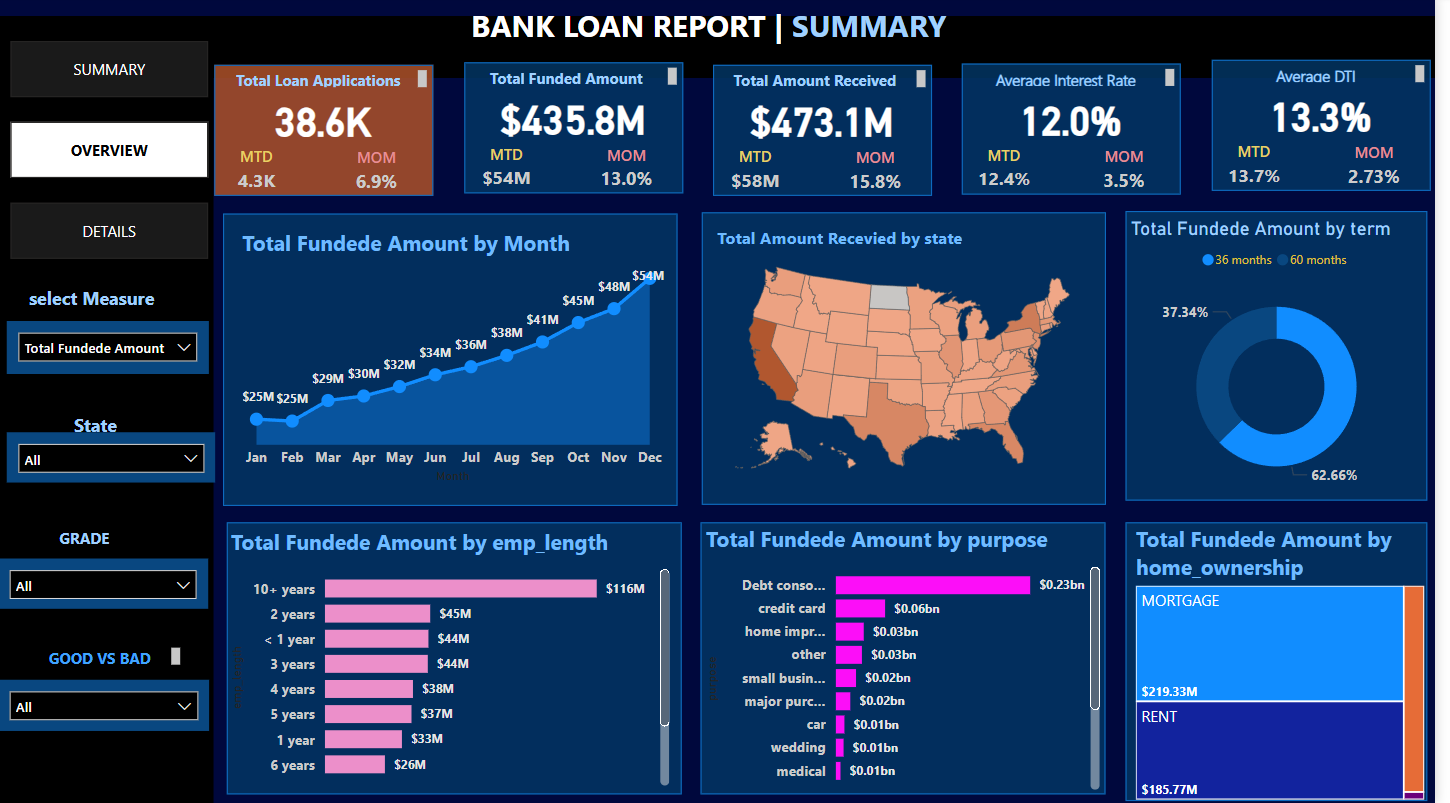

What the dashboard file says about the page in this screenshot:
{"tool":"powerbi","page":{"name":" SUMMARY","canvas":[1280,720],"ordinal":0},"visuals":[{"type":"shape","box":[0,0,1280,55],"z":0},{"type":"shape","box":[1081,56.7,195.4,117],"z":0,"group":"g5"},{"type":"shape","box":[414.9,59.1,195.4,117],"z":0,"group":"g2"},{"type":"shape","box":[858.8,59.6,195.4,117],"z":0,"group":"g4"},{"type":"shape","box":[636.7,60.9,195.4,117],"z":0,"group":"g3"},{"type":"shape","box":[193,61.5,195.4,117],"z":0,"group":"g1"},{"type":"shape","box":[0,55.5,192,665],"z":1000},{"type":"textbox","box":[416.2,3.6,448.8,48.3],"z":2000},{"type":"group","id":"g1","title":"Group 1","box":[191.8,61.5,196.6,119.4],"z":3000},{"type":"group","id":"g2","title":"Group 1","box":[413.7,59.1,196.6,119.4],"z":4000},{"type":"card","fields":{"Values":["bank_loan_data.AVG_DTI"]},"box":[1081,79.6,193.8,50.7],"z":4000,"group":"g5"},{"type":"card","fields":{"Values":["bank_loan_data.Total Fundede Amount"]},"box":[414.9,82,193.8,50.7],"z":4000,"group":"g2"},{"type":"card","fields":{"Values":["bank_loan_data.Avg Interest Rate"]},"box":[858.8,82.5,193.8,50.7],"z":4000,"group":"g4"},{"type":"card","fields":{"Values":["bank_loan_data.Total Amount Recevied"]},"box":[636.7,83.8,193.8,50.7],"z":4000,"group":"g3"},{"type":"card","fields":{"Values":["bank_loan_data.Total Loan Applications"]},"box":[193,84.4,193.8,50.7],"z":4000,"group":"g1"},{"type":"textbox","box":[1079.8,56.7,195.4,25.3],"z":5000,"group":"g5"},{"type":"textbox","box":[413.7,59.1,195.4,25.3],"z":5000,"group":"g2"},{"type":"textbox","box":[857.6,59.6,195.4,25.3],"z":5000,"group":"g4"},{"type":"textbox","box":[635.5,60.9,195.4,25.3],"z":5000,"group":"g3"},{"type":"textbox","box":[191.8,61.5,195.4,25.3],"z":5000,"group":"g1"},{"type":"shape","box":[200.3,194.2,526,260.6],"z":5000},{"type":"card","title":"MTD","fields":{"Values":["bank_loan_data.MTD AVG_DTI"]},"box":[1081.1,129.6,75,43.3],"z":6000,"group":"g5"},{"type":"card","title":"MTD","fields":{"Values":["bank_loan_data.MTD Funded Amount"]},"box":[415,132,75,43.3],"z":6000,"group":"g2"},{"type":"card","title":"MTD","fields":{"Values":["bank_loan_data.MTD AVG_IN_rate"]},"box":[858.9,132.5,75,43.3],"z":6000,"group":"g4"},{"type":"card","title":"MTD","fields":{"Values":["bank_loan_data.MTD Total Amount Received"]},"box":[636.8,133.8,75,43.3],"z":6000,"group":"g3"},{"type":"card","title":"MTD","fields":{"Values":["bank_loan_data.MTD Loan Applications"]},"box":[193.1,134.4,75,43.3],"z":6000,"group":"g1"},{"type":"card","fields":{"Values":["bank_loan_data.Good Loan %"]},"box":[252.1,309.6,135.6,51.1],"z":6000},{"type":"card","title":"MOM","fields":{"Values":["bank_loan_data.MOM AVG_DTI"]},"box":[1177.8,129.7,95.3,47.1],"z":7000,"group":"g5"},{"type":"card","title":"MOM","fields":{"Values":["bank_loan_data.MOM Funded Amount"]},"box":[511.7,132.1,95.3,47.1],"z":7000,"group":"g2"},{"type":"card","title":"MOM","fields":{"Values":["bank_loan_data.MOM AVG_INTEREST_RATE"]},"box":[955.6,132.6,95.3,47.1],"z":7000,"group":"g4"},{"type":"card","title":"MOM","fields":{"Values":["bank_loan_data.MOM Amount Received"]},"box":[733.5,133.9,95.3,47.1],"z":7000,"group":"g3"},{"type":"card","title":"MOM","fields":{"Values":["bank_loan_data.MOM loan applications"]},"box":[289.8,134.5,95.3,47.1],"z":7000,"group":"g1"},{"type":"textbox","box":[4.8,355.9,144.8,32.6],"z":7000},{"type":"group","id":"g3","title":"Group 1","box":[635.5,60.9,196.9,120.5],"z":8000},{"type":"group","id":"g4","title":"Group 1","box":[857.6,59.6,196.9,120.5],"z":9000},{"type":"group","id":"g5","title":"Group 1","box":[1079.8,56.7,196.6,120.6],"z":10000},{"type":"shape","box":[745.6,194.2,520,260.6],"z":11000},{"type":"donutChart","fields":{"Category":["bank_loan_data.Good Loan vs Bad Loan"],"Y":["bank_loan_data.Total Loan Applications"]},"box":[187,229.2,250.9,231.6],"z":12000},{"type":"cardVisual","fields":{"Data":["bank_loan_data.Good Loan Appliactions","bank_loan_data.Good Loan Fundede Amounts","bank_loan_data.Good Loan Amounts Received"]},"box":[415,194.2,310.1,266.6],"z":13000},{"type":"donutChart","fields":{"Category":["bank_loan_data.Good Loan vs Bad Loan"],"Y":["bank_loan_data.Total Loan Applications"]},"box":[753.1,226.6,252.1,233],"z":14000},{"type":"card","fields":{"Values":["bank_loan_data.Bad Loan %"]},"box":[810.6,309.6,135.6,51.1],"z":15000},{"type":"textbox","box":[752.8,194.2,231.6,29],"z":16000},{"type":"cardVisual","fields":{"Data":["bank_loan_data.Bad Loan Appliactions","bank_loan_data.Bad Loan Fundede Amounts","bank_loan_data.Bad Loan Received"]},"box":[970,194.2,310.1,266.6],"z":17000},{"type":"tableEx","fields":{"Values":["bank_loan_data.loan_status","bank_loan_data.Total Loan Applications","bank_loan_data.Total Fundede Amount","bank_loan_data.Total Amount Recevied","bank_loan_data.MTD Funded Amount","bank_loan_data.MTD Total Amount Received","bank_loan_data.Avg Interest Rate","bank_loan_data.AVG_DTI"]},"box":[200.3,510.3,1079.8,197.9],"z":18000},{"type":"textbox","box":[209.9,472.9,255.8,50.7],"z":19000},{"type":"slicer","fields":{"Values":["bank_loan_data.sub_grade"]},"box":[0,500.7,187,44.6],"z":20000},{"type":"slicer","fields":{"Values":["bank_loan_data.address_state"]},"box":[7.2,388.5,185.8,44.6],"z":21000},{"type":"slicer","fields":{"Values":["bank_loan_data.purpose"]},"box":[0,609.3,188.2,45.8],"z":22000},{"type":"textbox","box":[206.6,204.2,231.6,29],"z":23000},{"type":"textbox","box":[4.8,468.1,144.8,32.6],"z":24000},{"type":"textbox","box":[0,576.7,144.8,32.6],"z":25000},{"type":"pageNavigator","box":[1.2,61.5,187,237.7],"z":26000}]}

Visuals, with their boxes in screenshot pixels (x1, y1, x2, y2), scaled from the page's 1280x720 canvas onto the 1450x803 screenshot:
shape: BBox(0, 0, 1449, 61)
shape: BBox(1225, 63, 1446, 194)
shape: BBox(470, 66, 691, 196)
shape: BBox(973, 66, 1194, 197)
shape: BBox(721, 68, 943, 198)
shape: BBox(219, 69, 440, 199)
shape: BBox(0, 62, 218, 802)
textbox: BBox(471, 4, 980, 58)
"Group 1" group: BBox(217, 69, 440, 202)
"Group 1" group: BBox(469, 66, 691, 199)
card - bank_loan_data.AVG_DTI: BBox(1225, 89, 1444, 145)
card - bank_loan_data.Total Fundede Amount: BBox(470, 91, 690, 148)
card - bank_loan_data.Avg Interest Rate: BBox(973, 92, 1192, 149)
card - bank_loan_data.Total Amount Recevied: BBox(721, 93, 941, 150)
card - bank_loan_data.Total Loan Applications: BBox(219, 94, 438, 151)
textbox: BBox(1223, 63, 1445, 91)
textbox: BBox(469, 66, 690, 94)
textbox: BBox(972, 66, 1193, 95)
textbox: BBox(720, 68, 941, 96)
textbox: BBox(217, 69, 439, 97)
shape: BBox(227, 217, 823, 507)
"MTD" card: BBox(1225, 145, 1310, 193)
"MTD" card: BBox(470, 147, 555, 196)
"MTD" card: BBox(973, 148, 1058, 196)
"MTD" card: BBox(721, 149, 806, 198)
"MTD" card: BBox(219, 150, 304, 198)
card - bank_loan_data.Good Loan %: BBox(286, 345, 439, 402)
"MOM" card: BBox(1334, 145, 1442, 197)
"MOM" card: BBox(580, 147, 688, 200)
"MOM" card: BBox(1083, 148, 1190, 200)
"MOM" card: BBox(831, 149, 939, 202)
"MOM" card: BBox(328, 150, 436, 203)
textbox: BBox(5, 397, 169, 433)
"Group 1" group: BBox(720, 68, 943, 202)
"Group 1" group: BBox(972, 66, 1195, 201)
"Group 1" group: BBox(1223, 63, 1446, 198)
shape: BBox(845, 217, 1434, 507)
donutChart - bank_loan_data.Good Loan vs Bad Loan x bank_loan_data.Total Loan Applications: BBox(212, 256, 496, 514)
cardVisual - bank_loan_data.Good Loan Appliactions x bank_loan_data.Good Loan Fundede Amounts: BBox(470, 217, 821, 514)
donutChart - bank_loan_data.Good Loan vs Bad Loan x bank_loan_data.Total Loan Applications: BBox(853, 253, 1139, 513)
card - bank_loan_data.Bad Loan %: BBox(918, 345, 1072, 402)
textbox: BBox(853, 217, 1115, 249)
cardVisual - bank_loan_data.Bad Loan Appliactions x bank_loan_data.Bad Loan Fundede Amounts: BBox(1099, 217, 1449, 514)
tableEx - bank_loan_data.loan_status x bank_loan_data.Total Loan Applications: BBox(227, 569, 1449, 790)
textbox: BBox(238, 527, 528, 584)
slicer - bank_loan_data.sub_grade: BBox(0, 558, 212, 608)
slicer - bank_loan_data.address_state: BBox(8, 433, 219, 483)
slicer - bank_loan_data.purpose: BBox(0, 680, 213, 731)
textbox: BBox(234, 228, 496, 260)
textbox: BBox(5, 522, 169, 558)
textbox: BBox(0, 643, 164, 680)
pageNavigator: BBox(1, 69, 213, 334)
